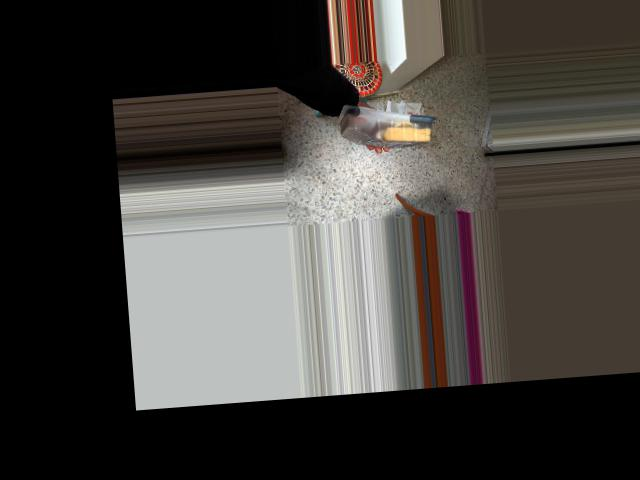cheese: (333, 95, 435, 153)
